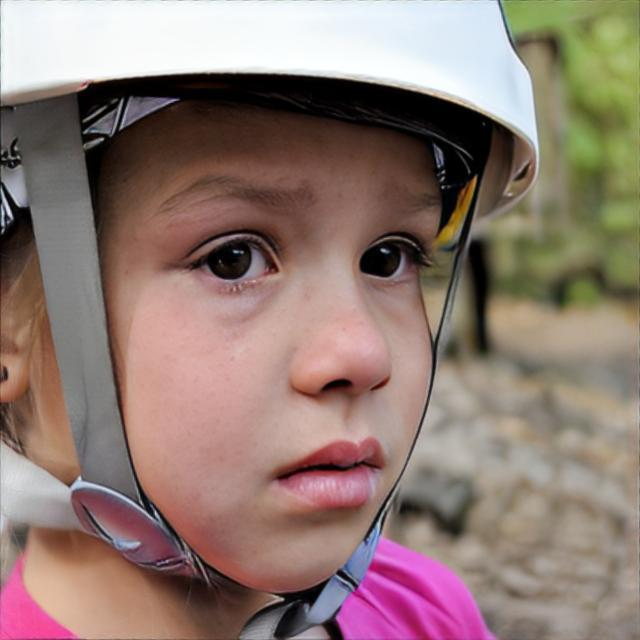sad: (31, 86, 446, 597)
